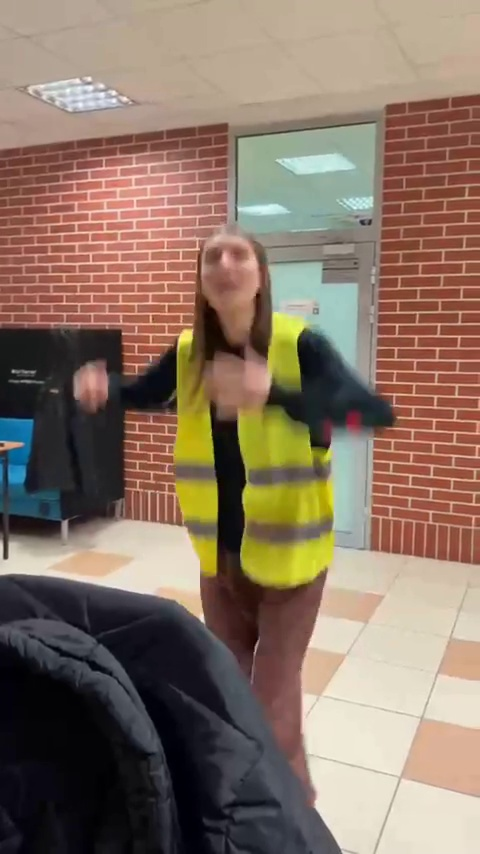vest: (123, 226, 395, 761)
